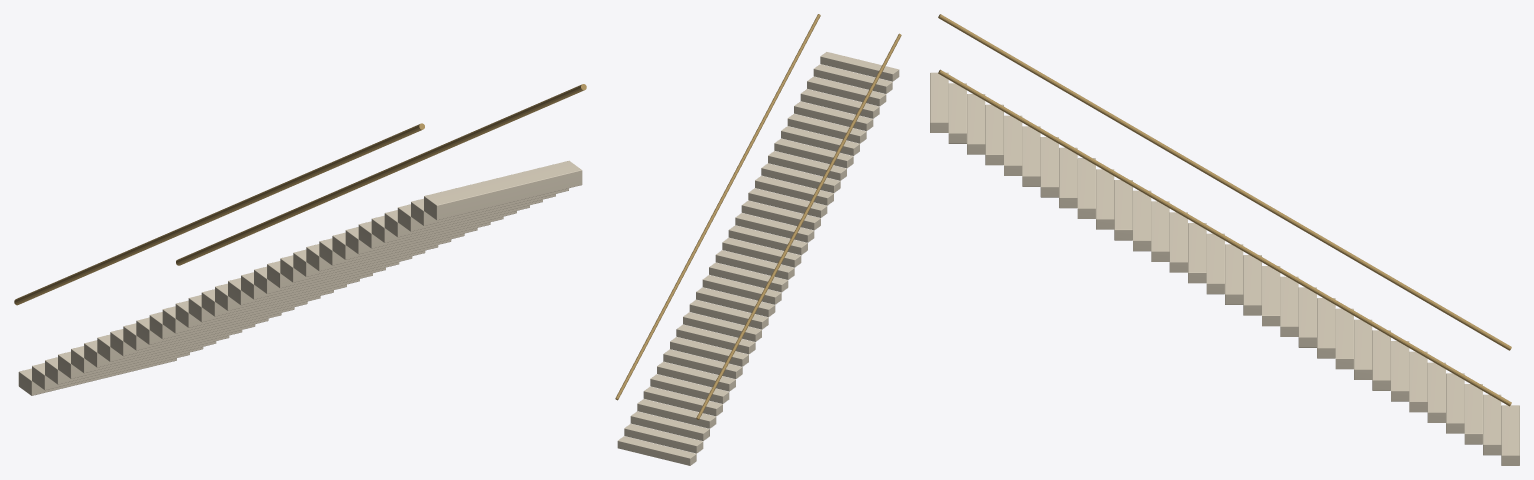
The model's file is lower_stairway.glb.
3 views of the same model, side by side, from view 1: azimuth 30°, elevation 25°; view 2: azimuth 150°, elevation 25°; view 3: azimuth 270°, elevation 25° (orthographic). The views are drawn at different scales.
Visible parts, largest first — view 1: descending_step, descending_handrail.001, descending_handrail, descending_step.019, descending_step.021, descending_step.026, descending_step.002, descending_step.007, descending_step.012, descending_step.024, descending_step.003, descending_step.004 (+22 smaller); view 2: descending_handrail.001, descending_handrail, descending_step.029, descending_step.030, descending_step.031, descending_step.028, descending_step.001, descending_step.007, descending_step.014, descending_step.016, descending_step.018, descending_step.020 (+22 smaller); view 3: descending_handrail, descending_handrail.001, descending_step.031, descending_step.003, descending_step.015, descending_step.026, descending_step.022, descending_step.007, descending_step.011, descending_step.030, descending_step.029, descending_step.006 (+22 smaller).
Boxes of the visible parts, <box> form: descending_step: <box>424,160,582,220</box>; descending_handrail.001: <box>176,84,586,265</box>; descending_handrail: <box>14,123,424,305</box>; descending_step.019: <box>175,290,333,327</box>; descending_step.021: <box>149,301,307,339</box>; descending_step.026: <box>84,330,242,367</box>; descending_step.002: <box>397,194,555,231</box>; descending_step.007: <box>332,222,490,259</box>; descending_step.012: <box>267,250,425,288</box>; descending_step.024: <box>110,318,268,356</box>; descending_step.003: <box>384,199,542,237</box>; descending_step.004: <box>371,205,529,242</box>; descending_handrail.001: <box>615,14,820,400</box>; descending_handrail: <box>696,33,901,419</box>; descending_step.029: <box>630,411,709,440</box>; descending_step.030: <box>624,423,703,453</box>; descending_step.031: <box>617,436,696,465</box>; descending_step.028: <box>637,399,716,428</box>; descending_step.001: <box>813,64,892,93</box>; descending_step.007: <box>774,138,853,168</box>; descending_step.014: <box>728,225,807,255</box>; descending_step.016: <box>715,250,794,279</box>; descending_step.018: <box>702,275,781,304</box>; descending_step.020: <box>689,299,768,329</box>; descending_handrail: <box>938,14,1511,350</box>; descending_handrail.001: <box>938,69,1511,406</box>; descending_step.031: <box>1501,405,1519,465</box>; descending_step.003: <box>985,104,1003,165</box>; descending_step.015: <box>1206,233,1224,294</box>; descending_step.026: <box>1409,351,1427,412</box>; descending_step.022: <box>1335,308,1353,369</box>; descending_step.007: <box>1059,147,1077,208</box>; descending_step.011: <box>1133,190,1151,251</box>; descending_step.030: <box>1483,394,1501,455</box>; descending_step.029: <box>1464,384,1482,444</box>; descending_step.006: <box>1040,137,1058,197</box>.
Bounding box in the file's own units: 2.07 × 6.69 × 8.96.
